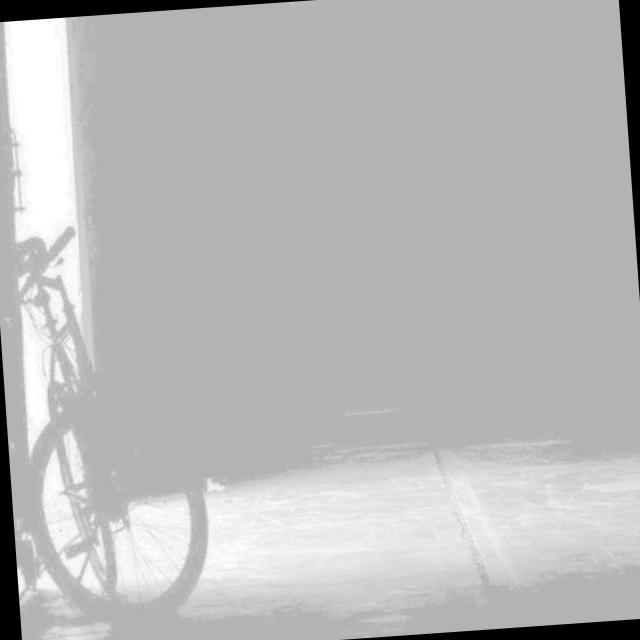Bicycle: (0, 182, 235, 640)
